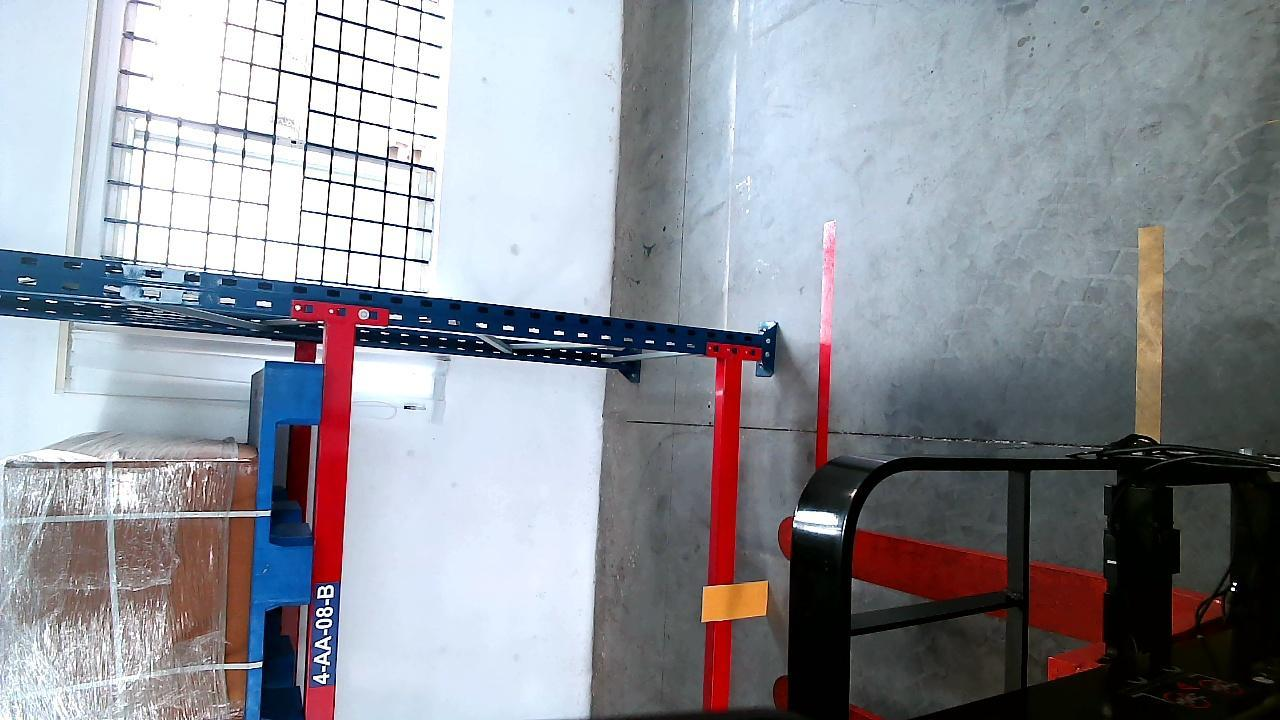red_line: (815, 222, 837, 465)
yellow_line: (1137, 221, 1163, 443)
